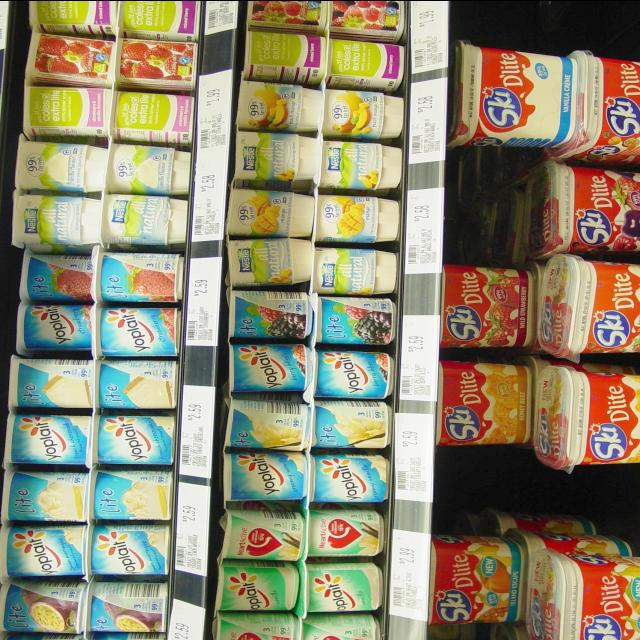empty_space: (448, 469, 636, 516), (448, 151, 532, 253), (464, 0, 637, 41)
